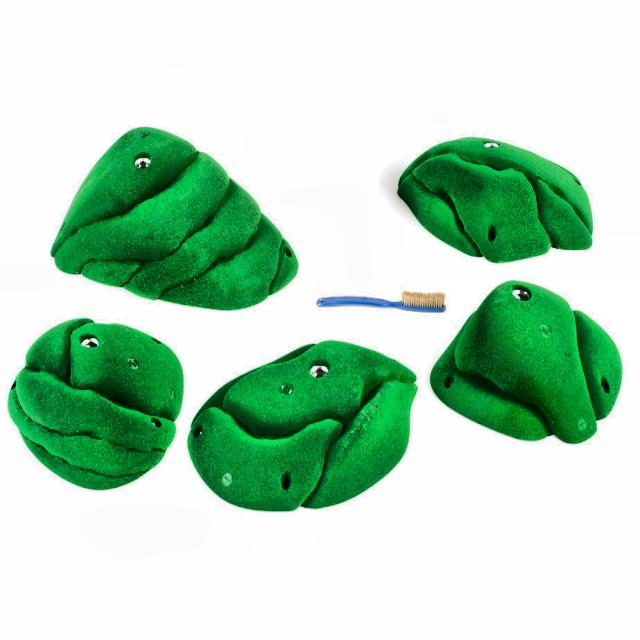Hold: (48, 127, 304, 304), (190, 336, 418, 516), (9, 319, 184, 495), (434, 277, 622, 440), (388, 136, 595, 262)
